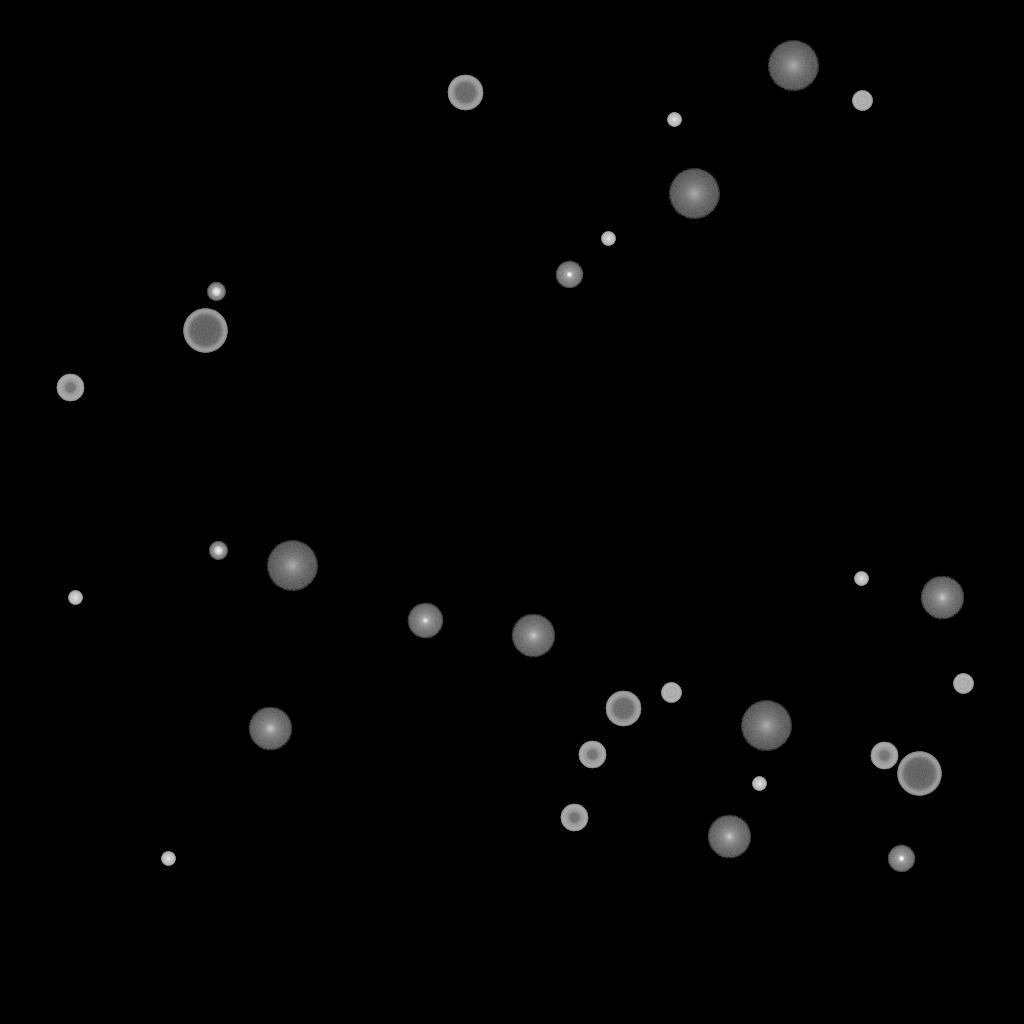depth:-10: (555, 261, 583, 289), (887, 845, 915, 873)
depth:-20: (207, 283, 225, 301), (209, 542, 227, 560)
depth:-30: (667, 113, 681, 127), (161, 852, 175, 866), (601, 232, 615, 246), (68, 591, 82, 605), (752, 777, 766, 791), (854, 572, 868, 586)
depth:-40: (661, 683, 681, 703), (953, 674, 973, 694), (852, 91, 872, 111)
depth:-50: (578, 741, 606, 769), (56, 374, 84, 402), (560, 804, 588, 832), (870, 742, 898, 770)
depth:-60: (605, 691, 641, 727), (447, 75, 483, 111)
depth:-70: (183, 309, 227, 353), (897, 752, 941, 796)
depth:0: (407, 603, 443, 639)
depth:10: (707, 815, 751, 859), (920, 576, 964, 620), (511, 614, 555, 658), (248, 707, 292, 751)
depth:20: (740, 701, 792, 751), (668, 169, 720, 219), (767, 41, 819, 91), (266, 541, 318, 591)
